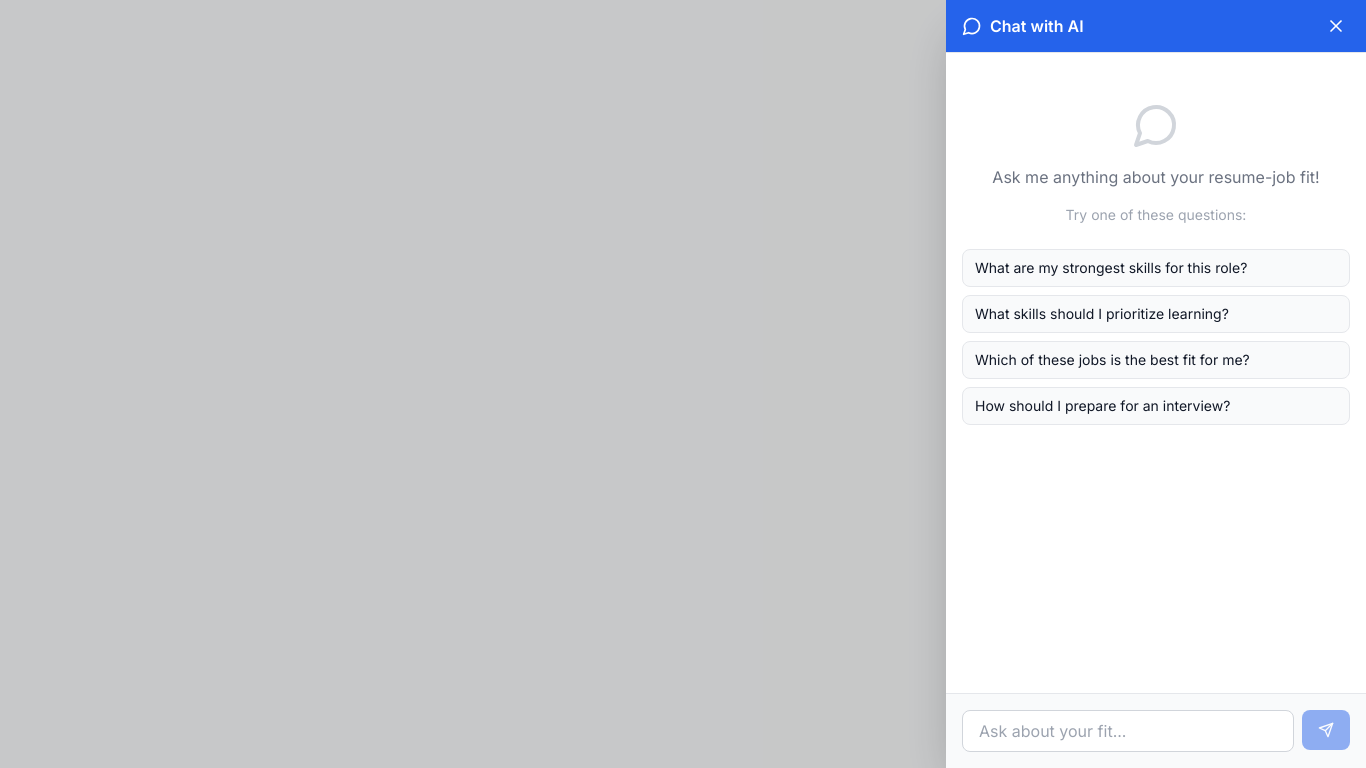
Test: ChatPanel › Messages › displays error message on API failure
The image size is (1366, 768).
In the field with placeholder "Ask about your fit...": (1128, 731) [962, 710, 1294, 752], type "Test"
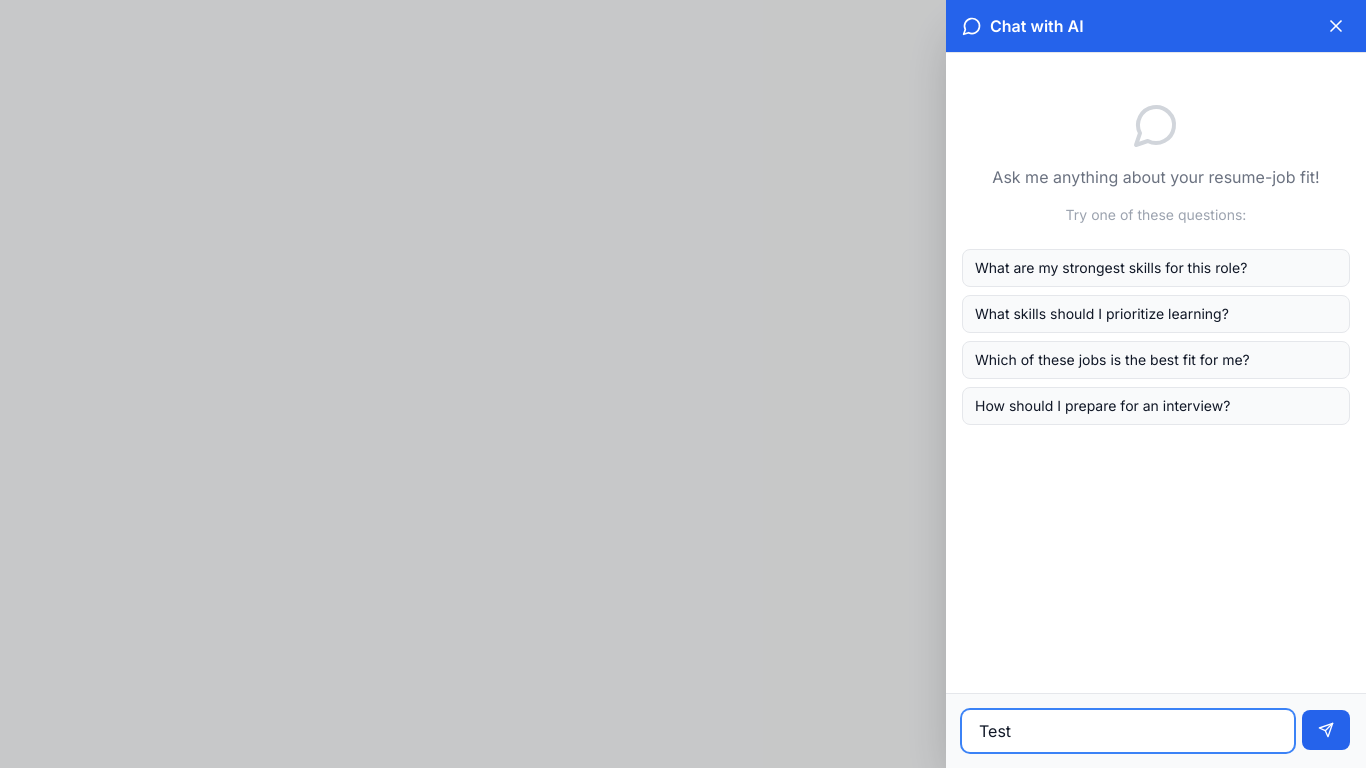
Press Enter
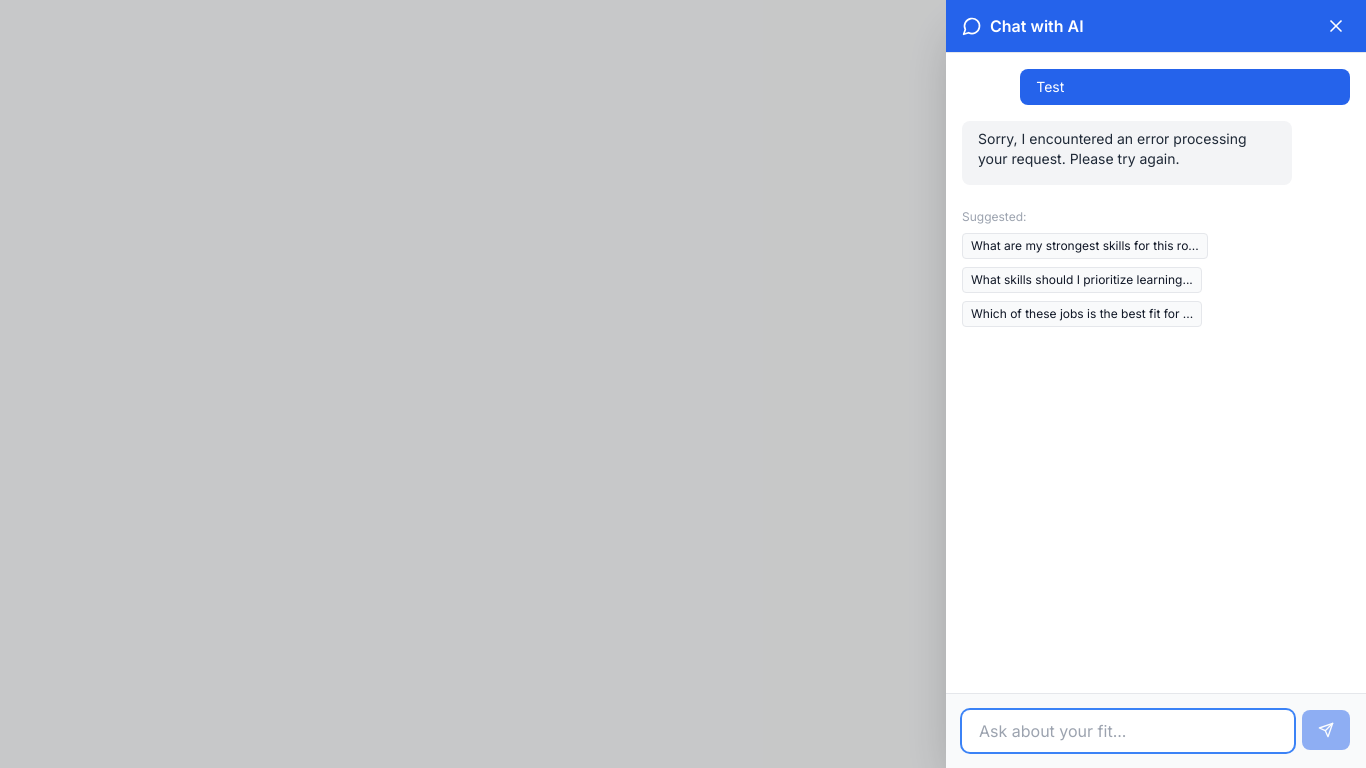
Expected: the text "error processing your request" is shown, [978, 130, 1246, 167]
